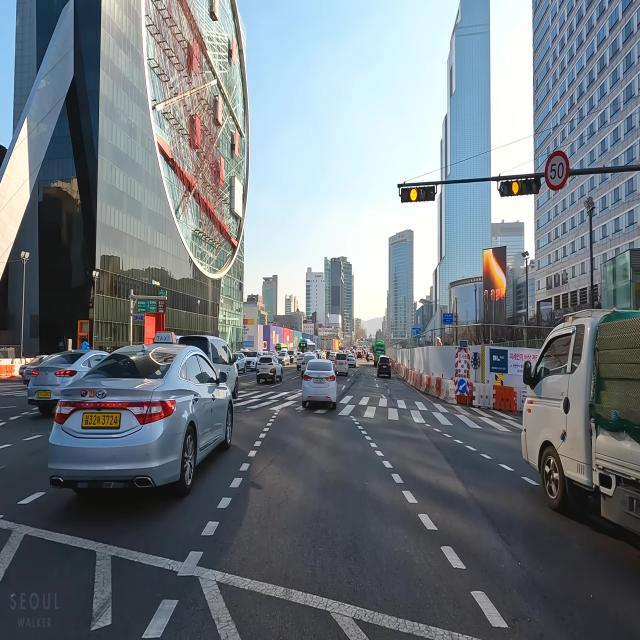Yellow Light: (512, 179, 520, 197), (409, 187, 418, 202)
